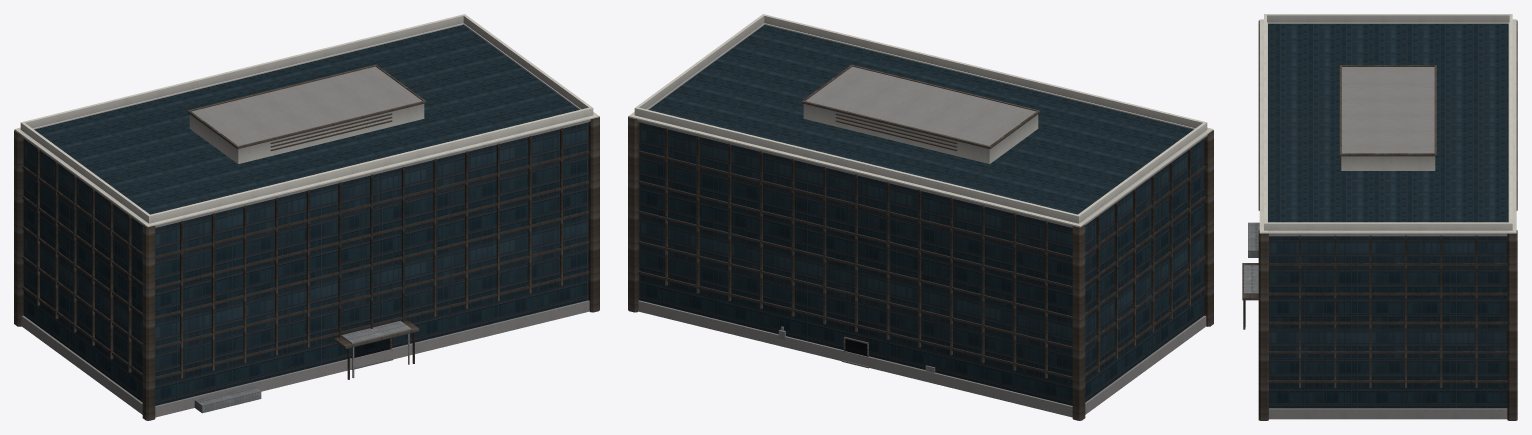
Rendered from tech-campus_lod0.gltf.
3 renders of one model, left to right at view 1: azimuth 30°, elevation 25°; view 2: azimuth 150°, elevation 25°; view 3: azimuth 270°, elevation 25°, orthographic. The views are drawn at different scales.
Parts seen in each view (by area): view 1: tech-campus_main, tech-campus__v4_stone_detail, tech-campus__v4_metal_detail, tech-campus__bike_dock, tech-campus_fen_14-steel-panel_4; view 2: tech-campus_main, tech-campus__v4_stone_detail, tech-campus__v4_metal_detail; view 3: tech-campus_main, tech-campus__v4_stone_detail, tech-campus__v4_metal_detail, tech-campus_fen_14-steel-panel_4, tech-campus__bike_dock.
Boxes of the visible parts, x1,y1,x2,y2 form: tech-campus_main: [23, 25, 588, 405]; tech-campus__v4_stone_detail: [14, 14, 599, 417]; tech-campus__v4_metal_detail: [14, 64, 599, 420]; tech-campus__bike_dock: [194, 386, 261, 413]; tech-campus_fen_14-steel-panel_4: [341, 320, 411, 378]; tech-campus_main: [639, 25, 1204, 405]; tech-campus__v4_stone_detail: [628, 14, 1213, 417]; tech-campus__v4_metal_detail: [628, 64, 1213, 420]; tech-campus_main: [1268, 24, 1508, 408]; tech-campus__v4_stone_detail: [1259, 14, 1516, 419]; tech-campus__v4_metal_detail: [1242, 20, 1517, 420]; tech-campus_fen_14-steel-panel_4: [1244, 265, 1258, 326]; tech-campus__bike_dock: [1248, 222, 1259, 257].
Size of the model in its own units: 61.4 by 27.32 by 33.4.
